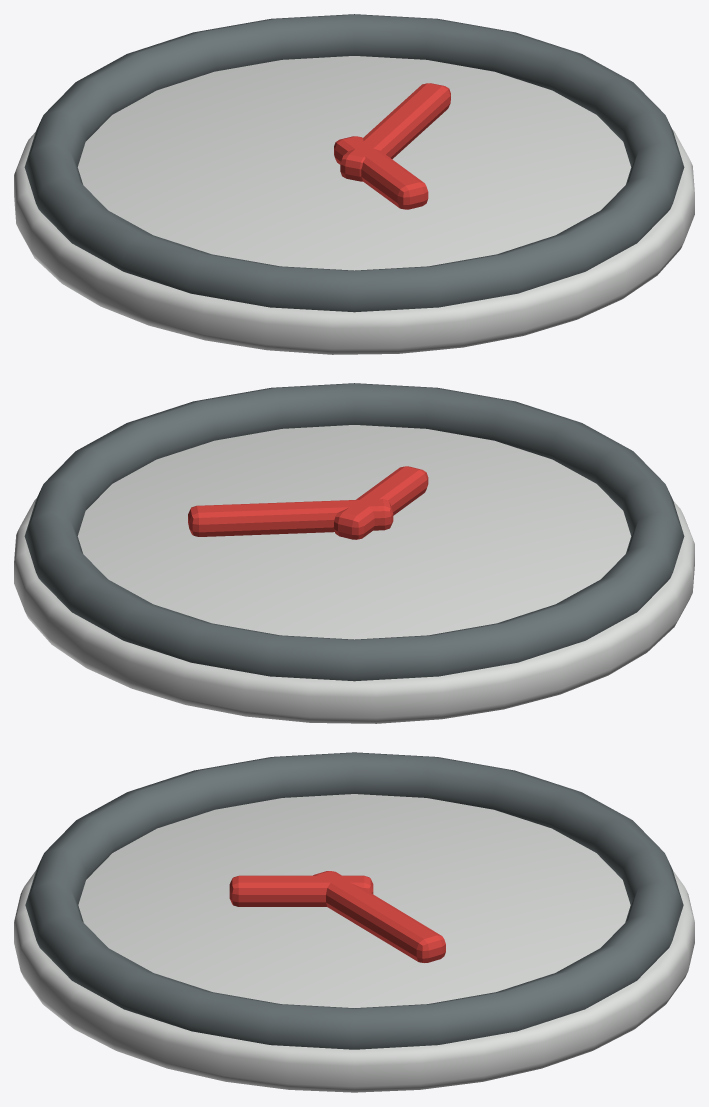
File: Timer.fbx
The picture shows the model from 3 angles, top to bottom: view 1: azimuth 30°, elevation 25°; view 2: azimuth 150°, elevation 25°; view 3: azimuth 270°, elevation 25°; orthographic projection.
Parts seen in each view (by area): view 1: ClockFace, ClockRim, MinuteHand, HourHand; view 2: ClockFace, ClockRim, MinuteHand, HourHand; view 3: ClockFace, ClockRim, MinuteHand, HourHand.
Boxes of the visible parts, box(x1,y1,x2,y2) form: ClockFace: box(14, 56, 694, 354); ClockRim: box(24, 14, 684, 312); MinuteHand: box(340, 83, 450, 181); HourHand: box(334, 136, 428, 209); ClockFace: box(14, 425, 694, 723); ClockRim: box(24, 383, 684, 681); MinuteHand: box(188, 499, 393, 536); HourHand: box(334, 466, 428, 539); ClockFace: box(14, 794, 694, 1092); ClockRim: box(25, 752, 683, 1049); MinuteHand: box(313, 871, 445, 962); HourHand: box(229, 875, 373, 906).
Size of the model in its own units: 0.9 by 0.1075 by 0.9.
